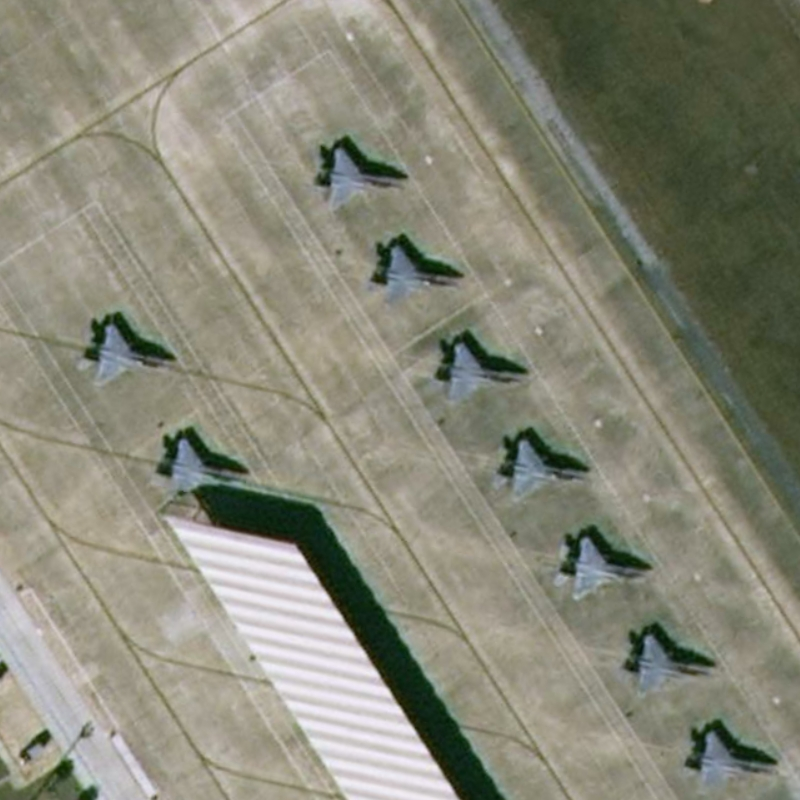A13: (71, 316, 174, 395), (618, 623, 714, 702), (678, 724, 782, 794), (489, 432, 587, 506), (364, 236, 459, 310), (549, 531, 643, 605), (312, 143, 407, 214), (434, 338, 526, 409), (155, 433, 248, 499)
